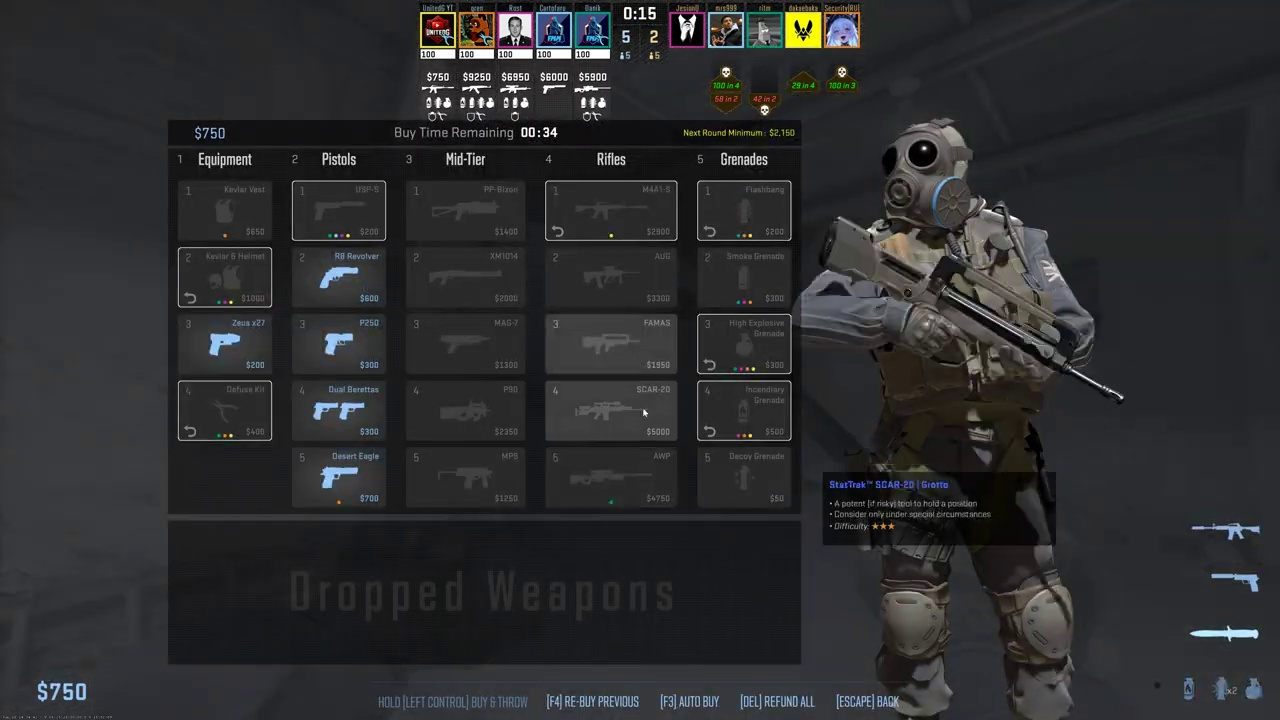CT: (858, 120, 1077, 712)
